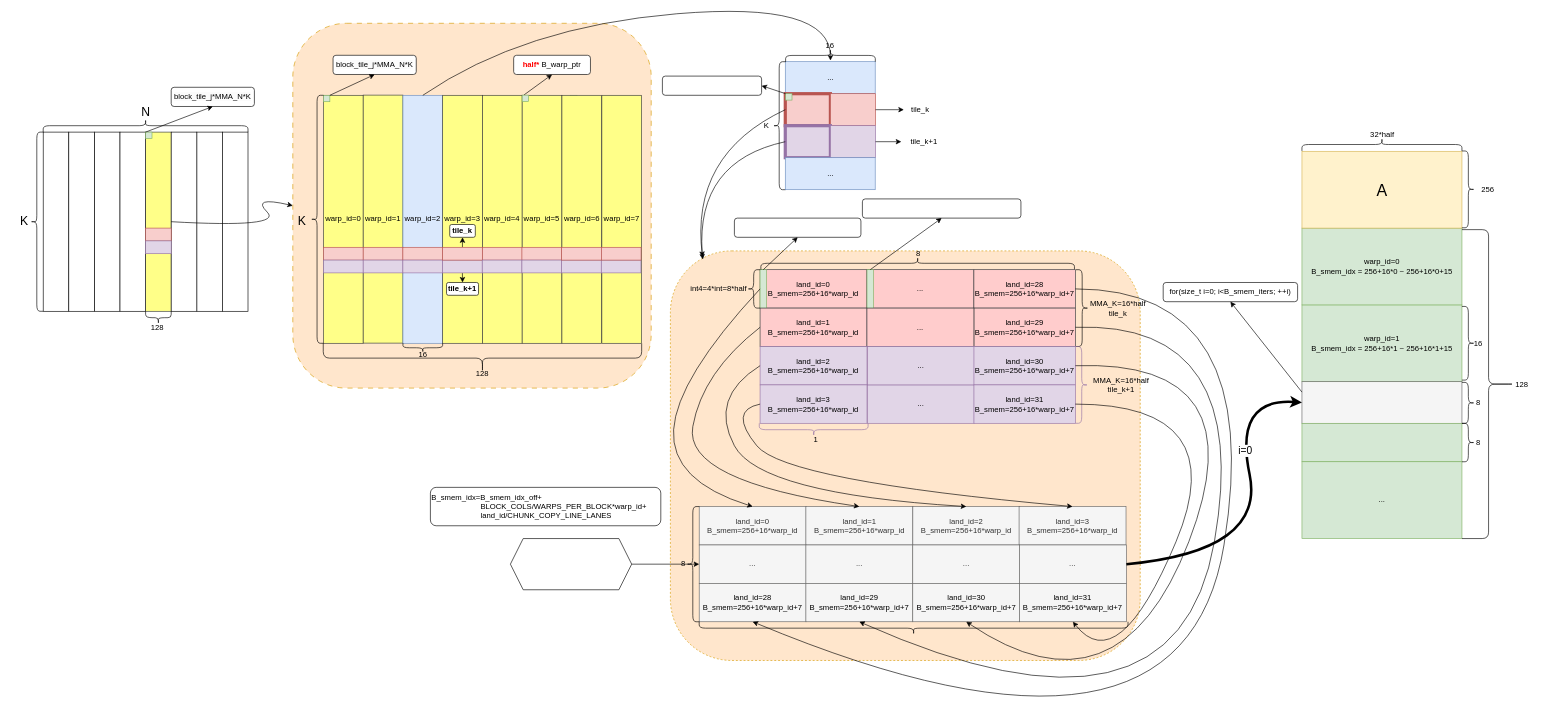
Image size: 1545x707. Some labels were removed from this diagram. Each missing label, with the centre of its shape:
"( int4* )(B_warp_ptr+tile_k*MMA_K)" goes at [797,227].
"( int4* )(B_warp_ptr+tile_k*MMA_K+ (lane_id/CHUNK_COPY_LINE_LANES)*K)" goes at [941,208].
"4*int4=16*int=32*half" goes at [913,628].
"B_warp_ptr+tile_k*MMA_K" goes at [712,85].
"part of shared memory smem[][AB_SMEM_STRIDE]" goes at [571,564].
"warp_id=2 i=0 ==> B_smem_idx = 256+16*2 ~ 256+16*2+7" goes at [1381,402].
"warp_id=2 i=1 ==> B_smem_idx = 256+16*2+8 ~ 256+16*2+15" goes at [1381,442].
